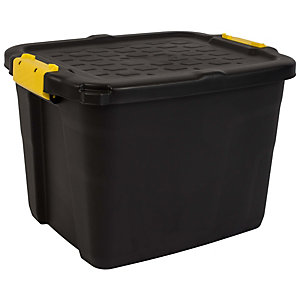PlasticBox: (2, 28, 298, 273)
